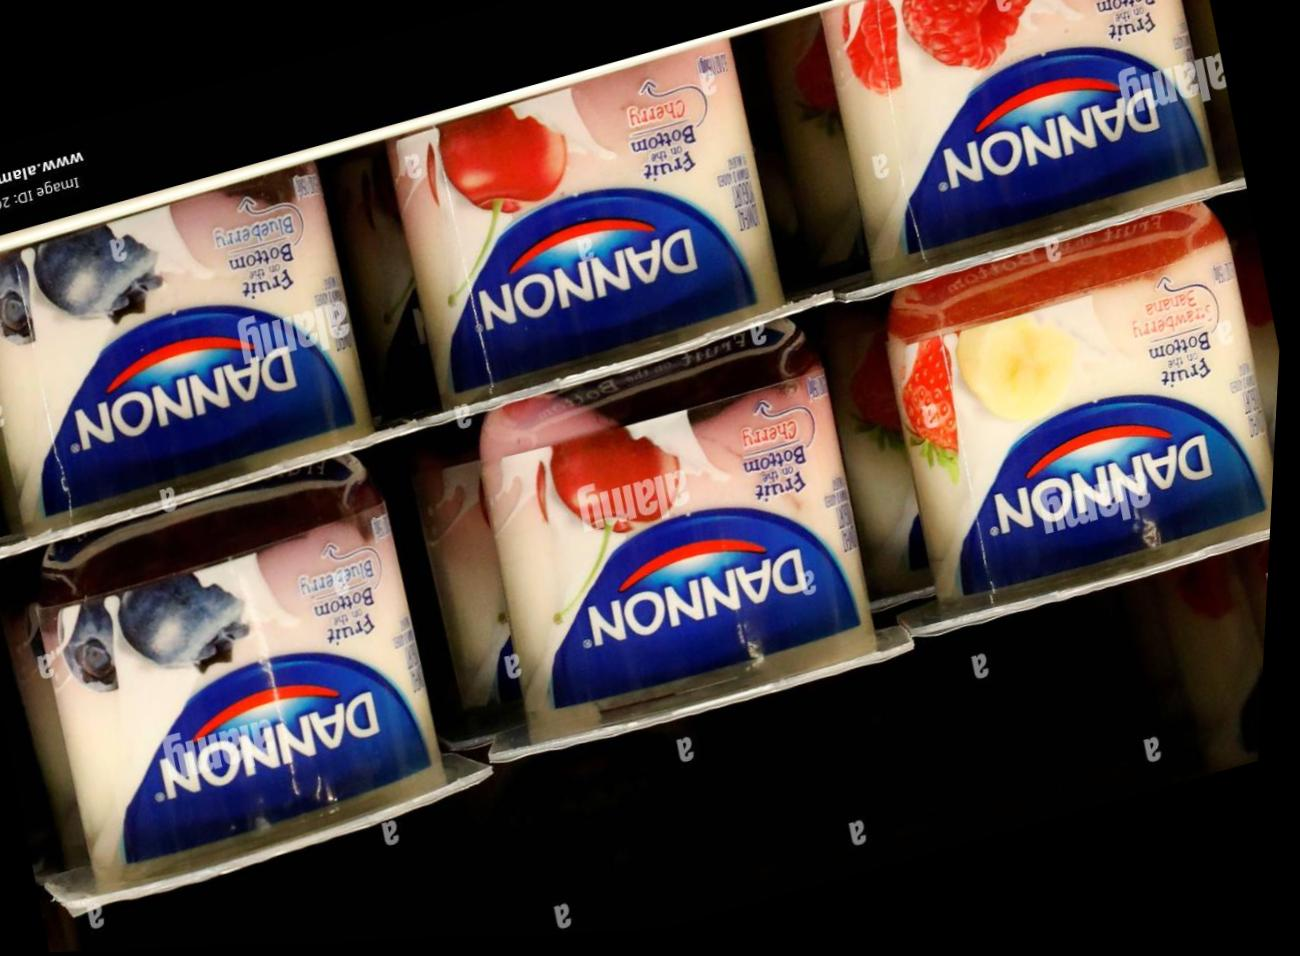plastic: (393, 17, 909, 761), (0, 163, 485, 934), (768, 0, 1274, 632)
